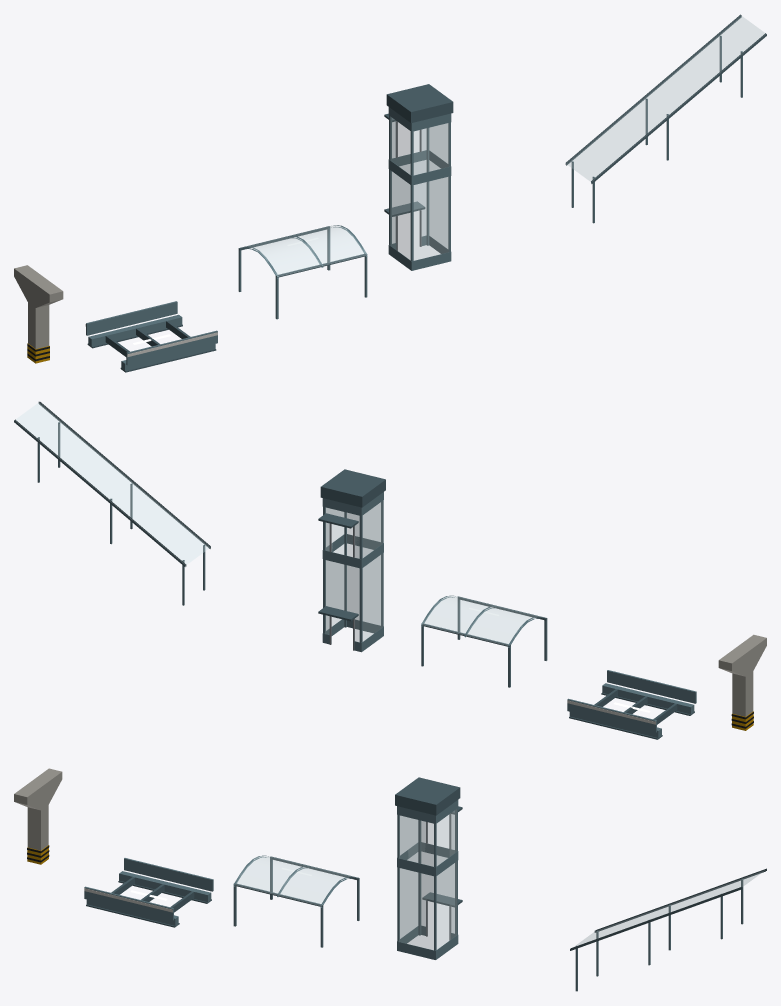
The model's file is ring.glb.
3 views of the same model, one above another, from view 1: azimuth 30°, elevation 25°; view 2: azimuth 150°, elevation 25°; view 3: azimuth 330°, elevation 25° (orthographic). The views are drawn at different scales.
Visible parts, largest first — view 1: ring_lift_body, ring_stairroof_body, ring_girder_body, ring_canopy_body, ring_pier_body; view 2: ring_lift_body, ring_stairroof_body, ring_girder_body, ring_canopy_body, ring_pier_body; view 3: ring_lift_body, ring_girder_body, ring_canopy_body, ring_stairroof_body, ring_pier_body.
Boxes of the visible parts, box(x1,y1,x2,y2) form: ring_lift_body: box(384, 84, 453, 270); ring_stairroof_body: box(565, 14, 766, 223); ring_girder_body: box(85, 301, 217, 372); ring_canopy_body: box(238, 225, 367, 319); ring_pier_body: box(14, 265, 63, 363); ring_lift_body: box(318, 469, 385, 652); ring_stairroof_body: box(14, 401, 210, 605); ring_girder_body: box(567, 670, 696, 739); ring_canopy_body: box(421, 595, 547, 687); ring_pier_body: box(718, 634, 766, 730); ring_lift_body: box(395, 777, 462, 959); ring_girder_body: box(84, 858, 213, 927); ring_canopy_body: box(233, 855, 359, 947); ring_stairroof_body: box(570, 868, 766, 991); ring_pier_body: box(14, 768, 62, 864).
Bounding box in the file's own units: 48.37 × 11.14 × 5.54.
